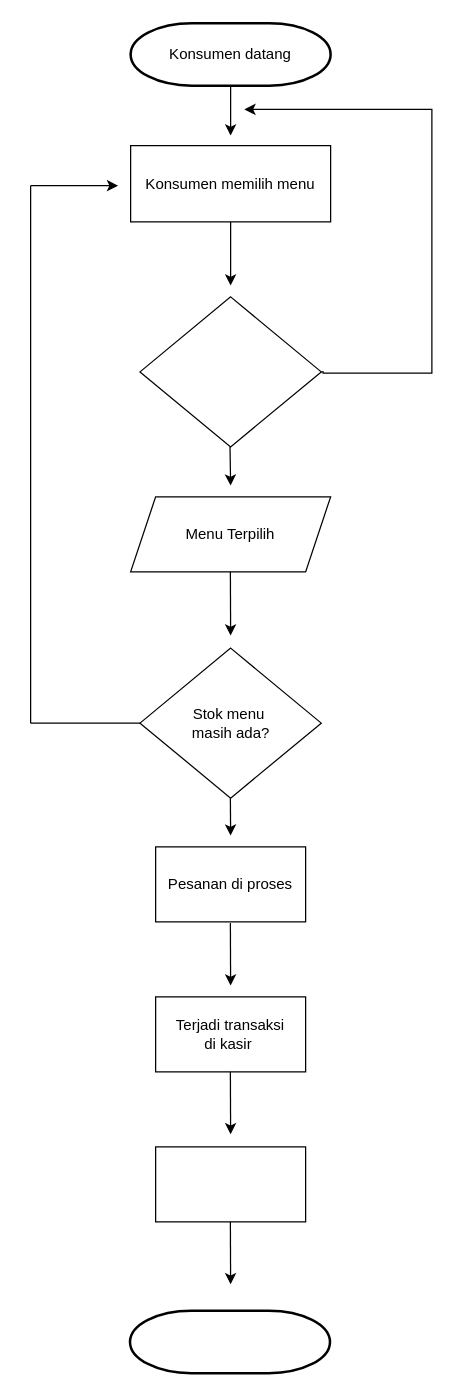
Some shapes in this 464 by 1395 pixel diagram are drawn without their labels. Here are the shapes that lost their labels. From the top down, the centre of each, then its label:
At (x=230, y=371): "Jadi pesan?".
At (x=230, y=1184): "Konsumen menerima Kwitansi / struk".
At (x=229, y=1341): "Konsumen pergi meninggalkan cafe".
